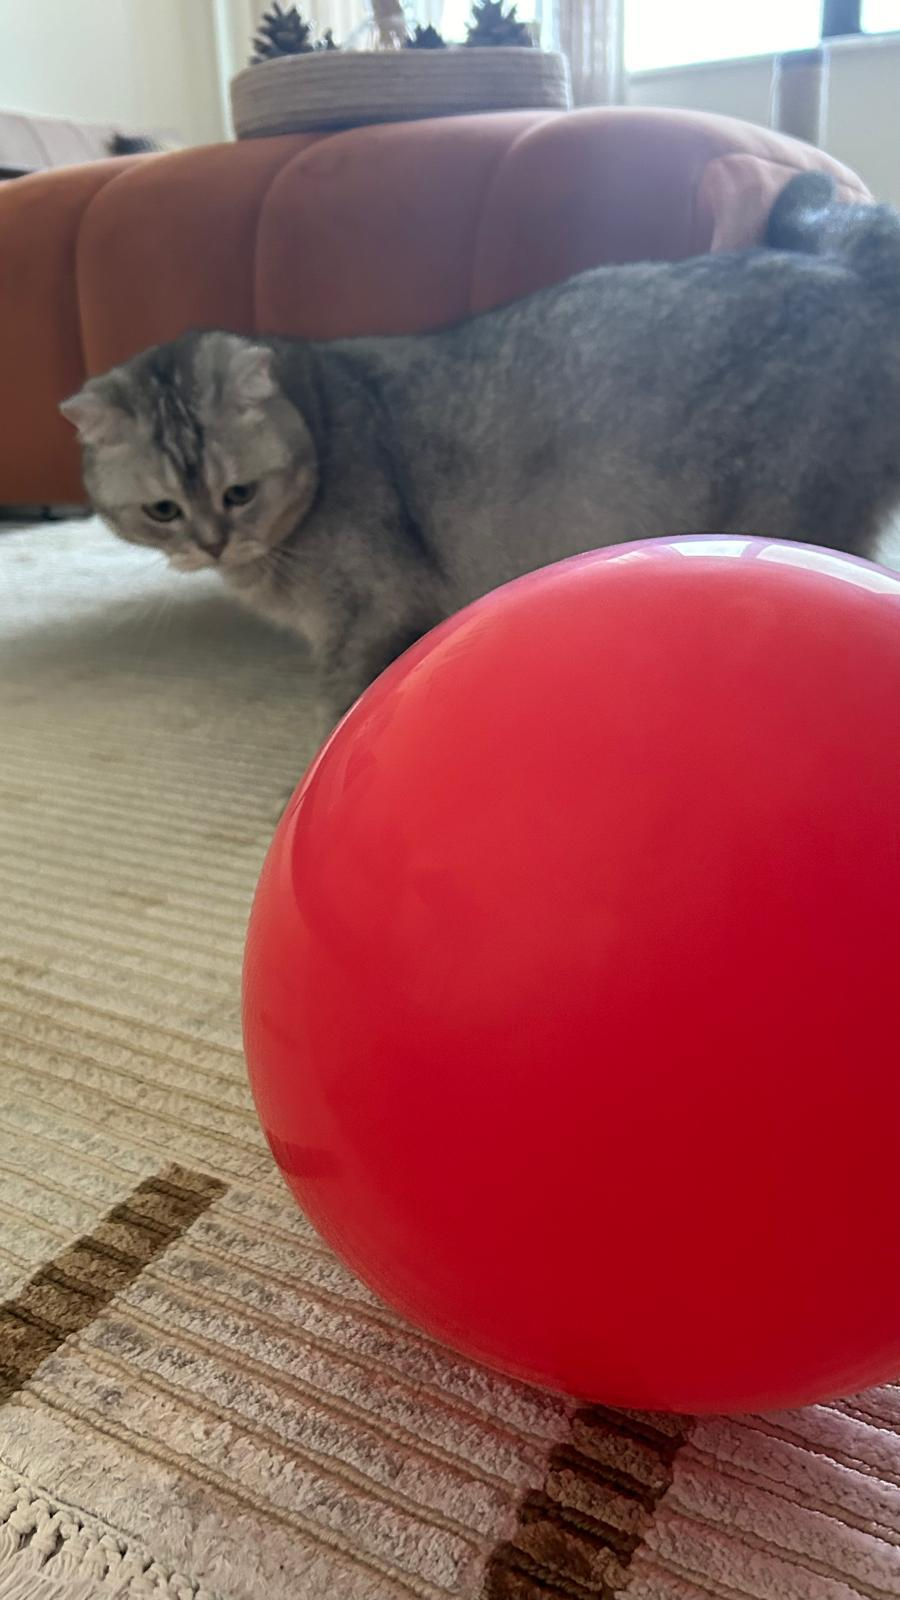red: (241, 521, 900, 1427)
